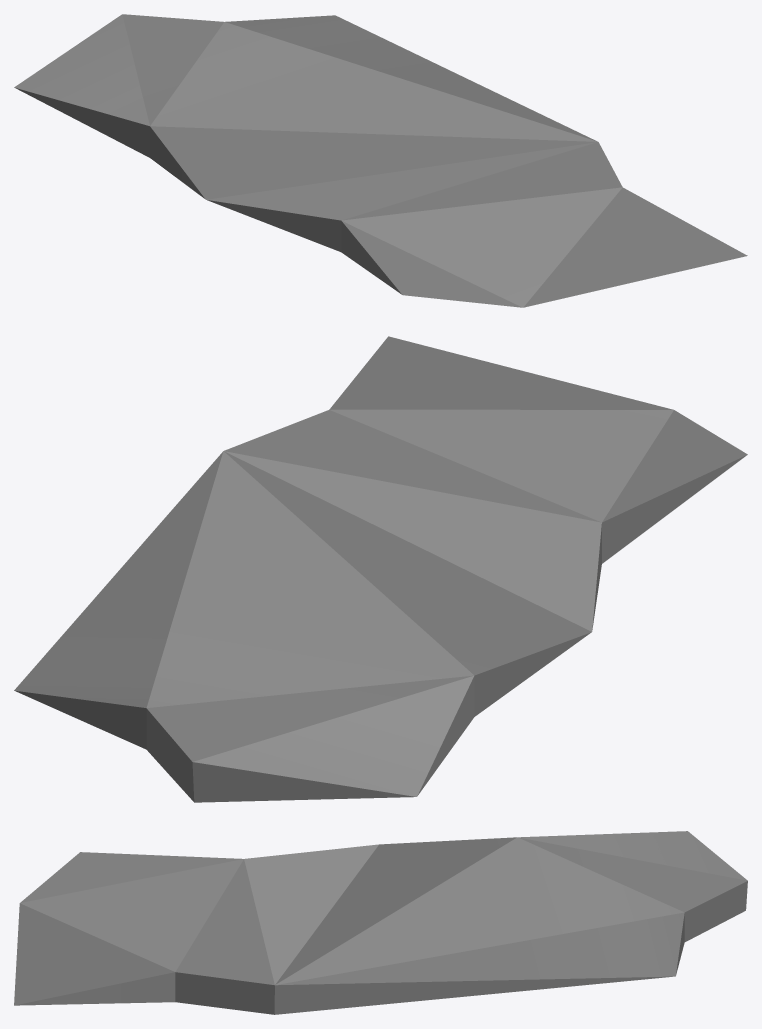
The model's file is stone-slab.glb.
3 renders of one model, top to bottom at view 1: azimuth 30°, elevation 25°; view 2: azimuth 150°, elevation 25°; view 3: azimuth 270°, elevation 25°, orthographic. The views are drawn at different scales.
Visible parts, largest first — view 1: cement_block_2_39_atlass_1_0; view 2: cement_block_2_39_atlass_1_0; view 3: cement_block_2_39_atlass_1_0.
Boxes of the visible parts, x1,y1,x2,y2 form: cement_block_2_39_atlass_1_0: [14, 14, 747, 307]; cement_block_2_39_atlass_1_0: [14, 336, 747, 802]; cement_block_2_39_atlass_1_0: [14, 831, 747, 1014].
Bounding box in the file's own units: 4.67 × 0.3752 × 8.3.
1 material, 1 textured.
